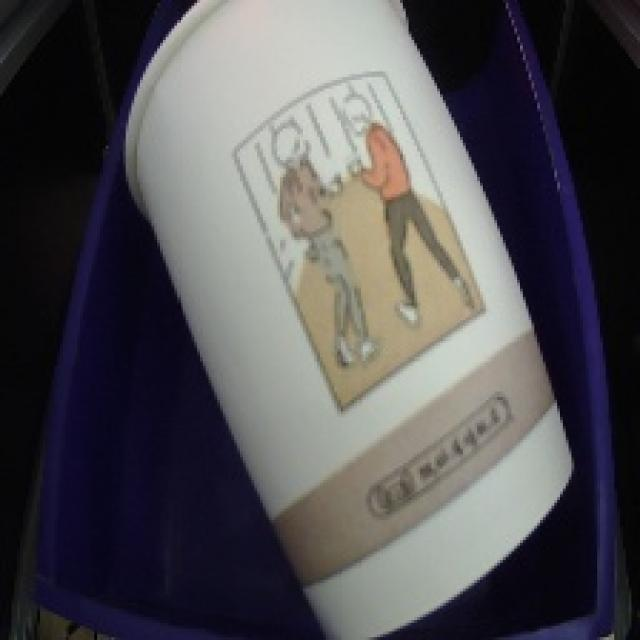cups: (114, 0, 583, 640)
